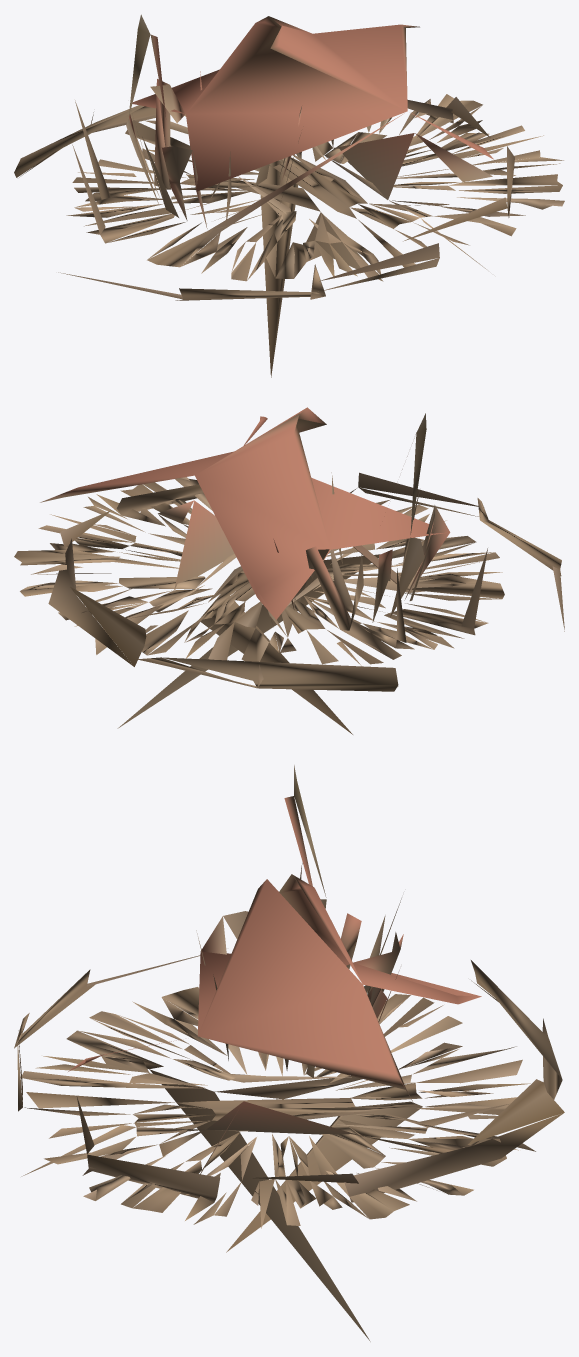
The model's file is casa_plataforma_lejos.glb.
The picture shows the model from 3 angles, top to bottom: view 1: azimuth 30°, elevation 25°; view 2: azimuth 150°, elevation 25°; view 3: azimuth 270°, elevation 25°; orthographic projection. The views are drawn at different scales.
Visible parts, largest first — view 1: casa_plataforma_lejos; view 2: casa_plataforma_lejos; view 3: casa_plataforma_lejos.
Boxes of the visible parts, x1,y1,x2,y2 form: casa_plataforma_lejos: [14, 14, 564, 377]; casa_plataforma_lejos: [14, 407, 564, 734]; casa_plataforma_lejos: [14, 765, 564, 1341].
Bounding box in the file's own units: 13.64 × 9.52 × 11.03.
